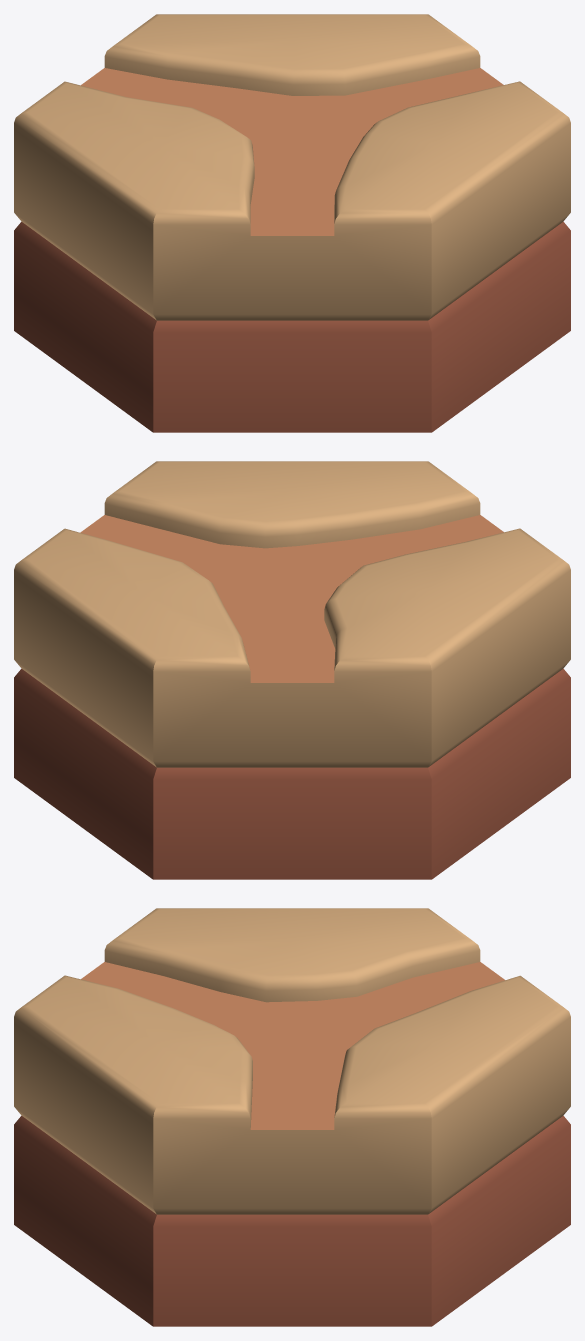
File: hex_sand_roadG_detail.glb
3 renders of one model, top to bottom at view 1: azimuth 30°, elevation 25°; view 2: azimuth 150°, elevation 25°; view 3: azimuth 270°, elevation 25°, orthographic.
Visible parts, largest first — view 1: hex_sand_roadG_detail; view 2: hex_sand_roadG_detail; view 3: hex_sand_roadG_detail.
Part boxes in pixels (<box>): hex_sand_roadG_detail: <box>14,14,570,432</box>; hex_sand_roadG_detail: <box>14,461,570,879</box>; hex_sand_roadG_detail: <box>14,908,570,1326</box>.
Bounding box in the file's own units: 2.4 × 1.2 × 2.77.
